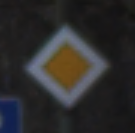yellow: (21, 22, 112, 110)
